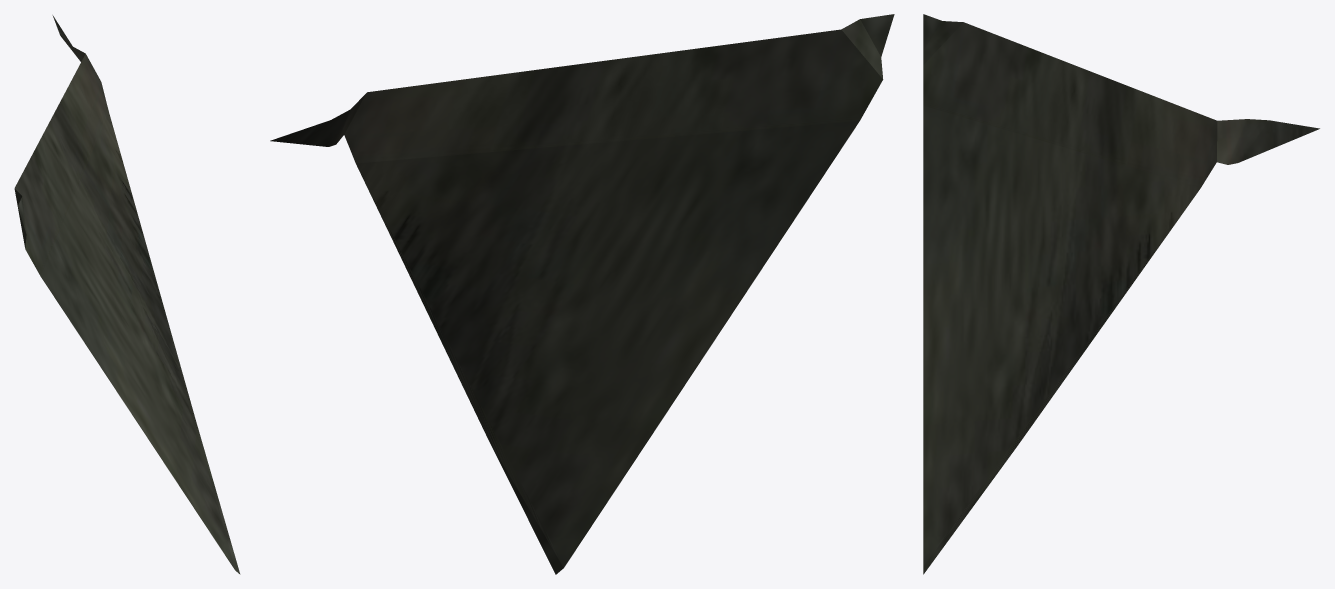
The picture shows the model from 3 angles, left to right: view 1: azimuth 30°, elevation 25°; view 2: azimuth 150°, elevation 25°; view 3: azimuth 270°, elevation 25°; orthographic projection. The views are drawn at different scales.
Bounding box in the file's own units: 1.52 × 2.75 × 2.22.
Materials: 1 (1 with a texture image).
